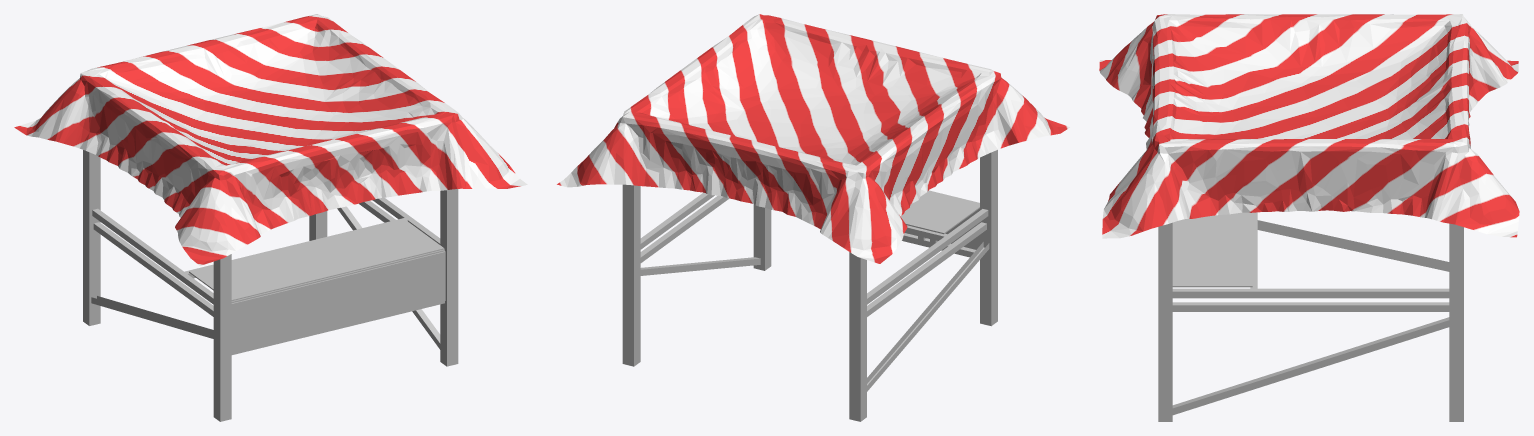
File: market-stall.fbx
3 renders of one model, left to right at view 1: azimuth 30°, elevation 25°; view 2: azimuth 150°, elevation 25°; view 3: azimuth 270°, elevation 25°, orthographic. The views are drawn at different scales.
Parts seen in each view (by area): view 1: Cloth, Stall; view 2: Cloth, Stall; view 3: Cloth, Stall.
Boxes of the visible parts, x1,y1,x2,y2 form: Cloth: [14, 14, 527, 265]; Stall: [83, 150, 458, 421]; Cloth: [557, 14, 1069, 263]; Stall: [622, 150, 997, 421]; Cloth: [1099, 14, 1519, 238]; Stall: [1158, 212, 1463, 421].
Bounding box in the file's own units: 2.91 × 2.12 × 2.89.
